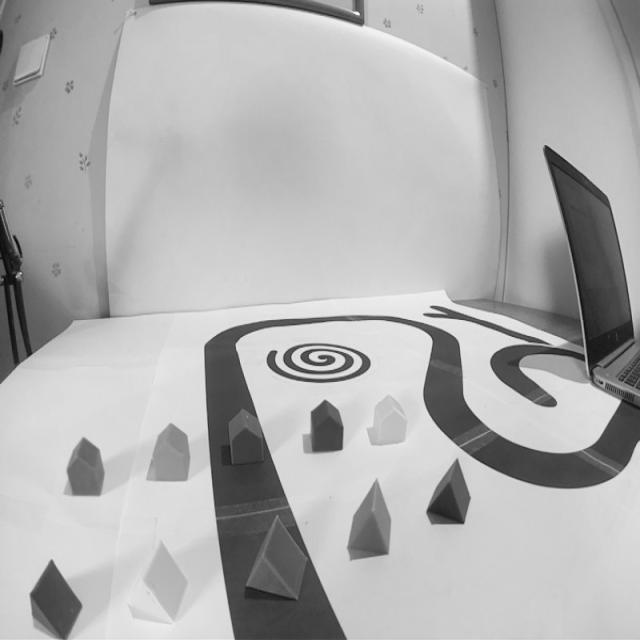home: (149, 423, 189, 483), (65, 437, 104, 497), (228, 409, 264, 466), (369, 396, 408, 446), (308, 399, 344, 453)
lineStraight: (203, 423, 358, 640)
nest: (266, 341, 372, 382)
triangle: (243, 515, 307, 605), (128, 539, 188, 624), (346, 476, 395, 562), (29, 560, 82, 638), (427, 458, 471, 525)
